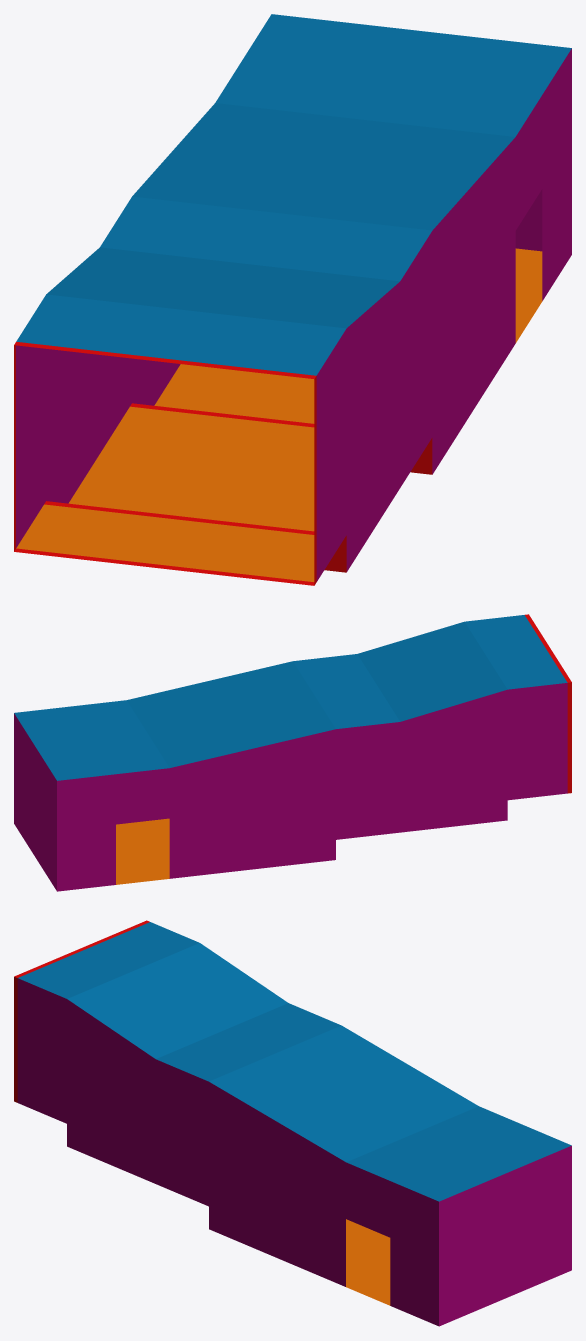
File: fbx_Corridor_Lifts_v1.4.fbx
3 renders of one model, top to bottom at view 1: azimuth 30°, elevation 25°; view 2: azimuth 150°, elevation 25°; view 3: azimuth 270°, elevation 25°, orthographic. The views are drawn at different scales.
Parts seen in each view (by area): view 1: polySurface2827; view 2: polySurface2827; view 3: polySurface2827.
Part boxes in pixels (bbox=[...]): polySurface2827: bbox=[14, 14, 571, 585]; polySurface2827: bbox=[14, 614, 571, 891]; polySurface2827: bbox=[14, 920, 571, 1326].
Size of the model in its own units: 2227 by 750 by 2227.
